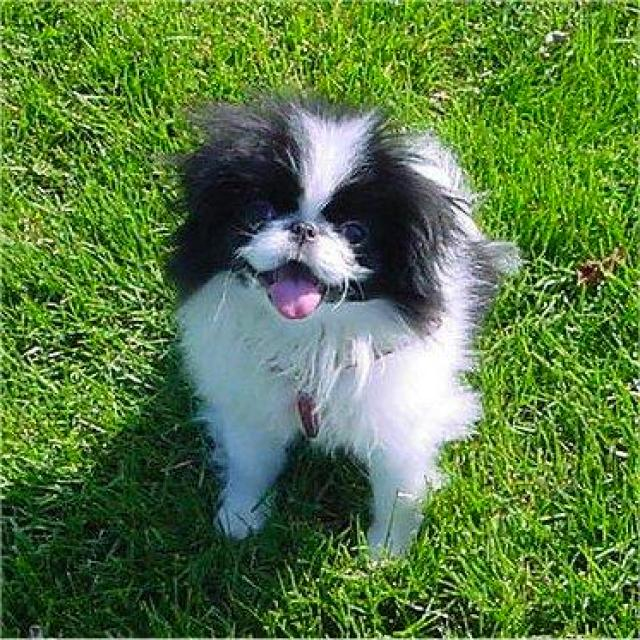husky: (155, 92, 524, 564)
